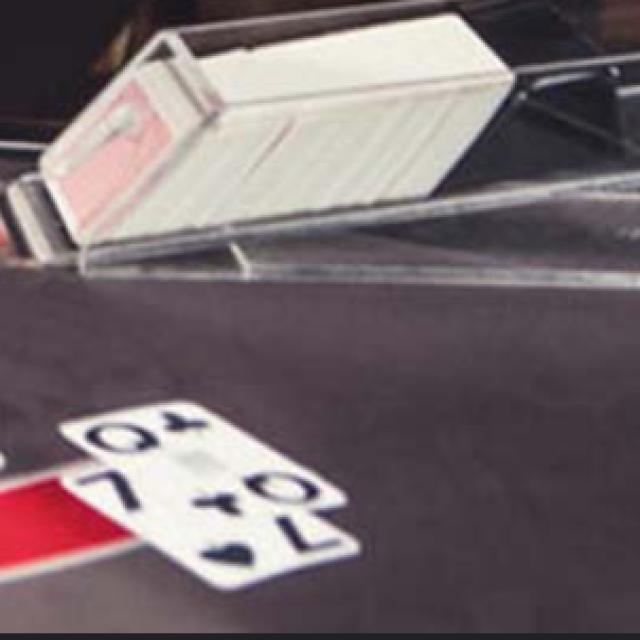Card-7: (60, 463, 361, 590)
Card-Q: (58, 399, 349, 533)
